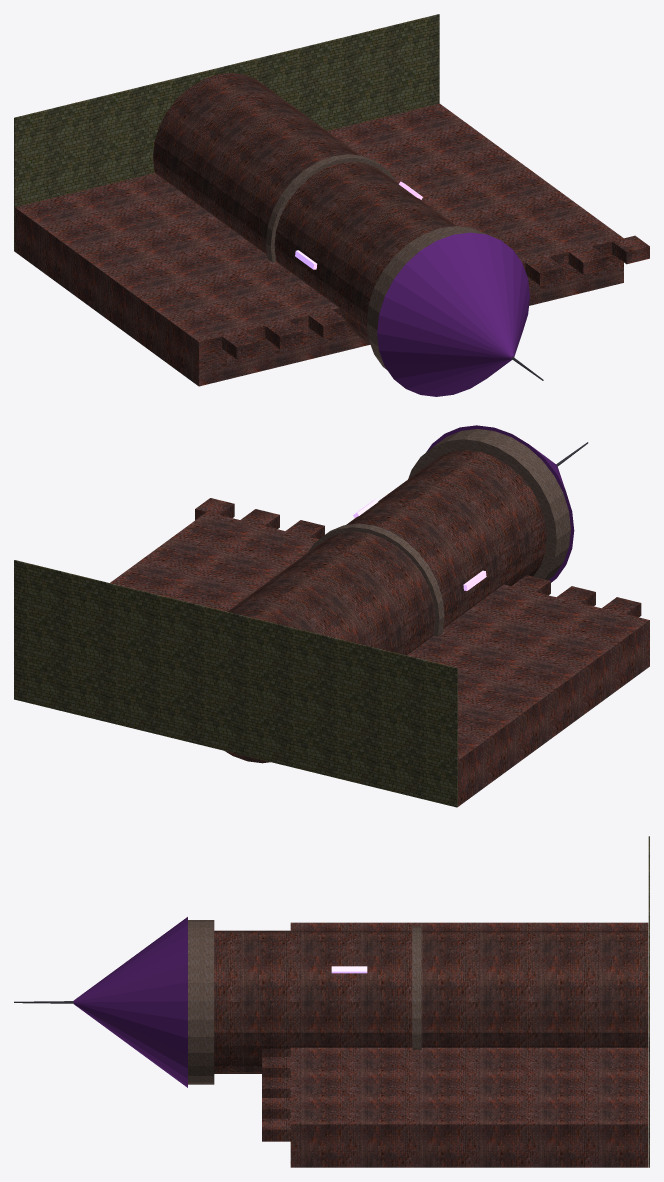
File: keep_t2_5.gltf
3 views of the same model, one above another, from view 1: azimuth 30°, elevation 25°; view 2: azimuth 150°, elevation 25°; view 3: azimuth 270°, elevation 25° (orthographic). The views are drawn at different scales.
Parts seen in each view (by area): view 1: keep_t2_5_wallg, keep_t2_5_wallg_out, keep_t2_5_ground, keep_t2_5_banner_p, keep_t2_5_stone; view 2: keep_t2_5_ground, keep_t2_5_wallg, keep_t2_5_wallg_out, keep_t2_5_stone, keep_t2_5_banner_p; view 3: keep_t2_5_wallg_out, keep_t2_5_wallg, keep_t2_5_banner_p, keep_t2_5_stone, keep_t2_5_ground.
Boxes of the visible parts, x1=… form: keep_t2_5_wallg: x1=15, y1=103, x2=649, y2=386; keep_t2_5_wallg_out: x1=153, y1=73, x2=455, y2=344; keep_t2_5_ground: x1=14, y1=14, x2=439, y2=251; keep_t2_5_banner_p: x1=377, y1=232, x2=529, y2=396; keep_t2_5_stone: x1=266, y1=154, x2=486, y2=370; keep_t2_5_ground: x1=14, y1=560, x2=457, y2=807; keep_t2_5_wallg: x1=110, y1=498, x2=649, y2=806; keep_t2_5_wallg_out: x1=225, y1=450, x2=546, y2=763; keep_t2_5_stone: x1=307, y1=429, x2=570, y2=636; keep_t2_5_banner_p: x1=426, y1=425, x2=574, y2=582; keep_t2_5_wallg_out: x1=214, y1=930, x2=648, y2=1073; keep_t2_5_wallg: x1=262, y1=922, x2=648, y2=1167; keep_t2_5_banner_p: x1=73, y1=917, x2=187, y2=1087; keep_t2_5_stone: x1=188, y1=920, x2=421, y2=1084; keep_t2_5_ground: x1=648, y1=836, x2=649, y2=1167.
Size of the model in its own units: 41.06 by 14.4 by 53.34.
Materials: 7 (4 with a texture image).
